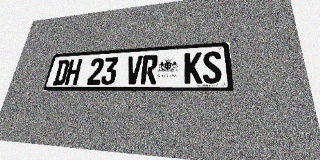2: (87, 58, 105, 85)
3: (100, 57, 118, 85)
D: (52, 60, 70, 85)
H: (64, 59, 82, 85)
K: (184, 52, 202, 84)
R: (140, 55, 158, 84)
S: (202, 51, 222, 84)
V: (125, 55, 143, 84)
